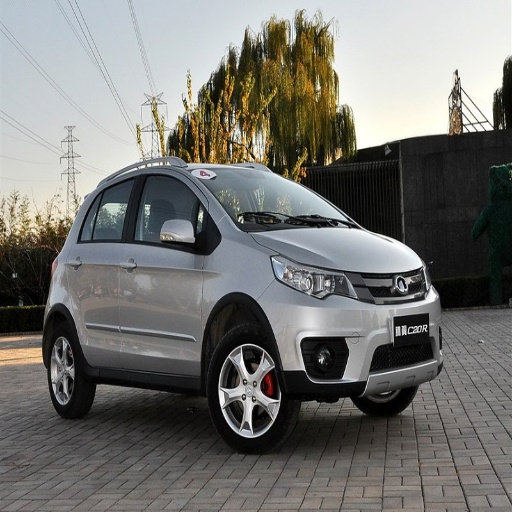front_bumper: (269, 270, 441, 401)
front_right_door: (120, 171, 210, 374)
front_right_light: (272, 256, 358, 298)
